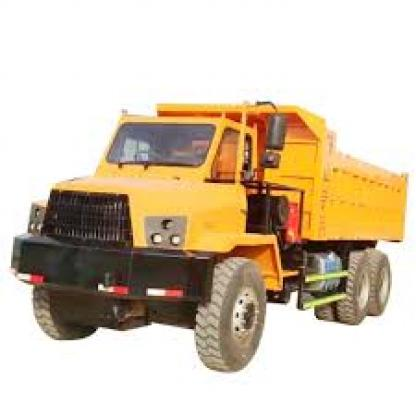dump_truck: (7, 90, 414, 381)
